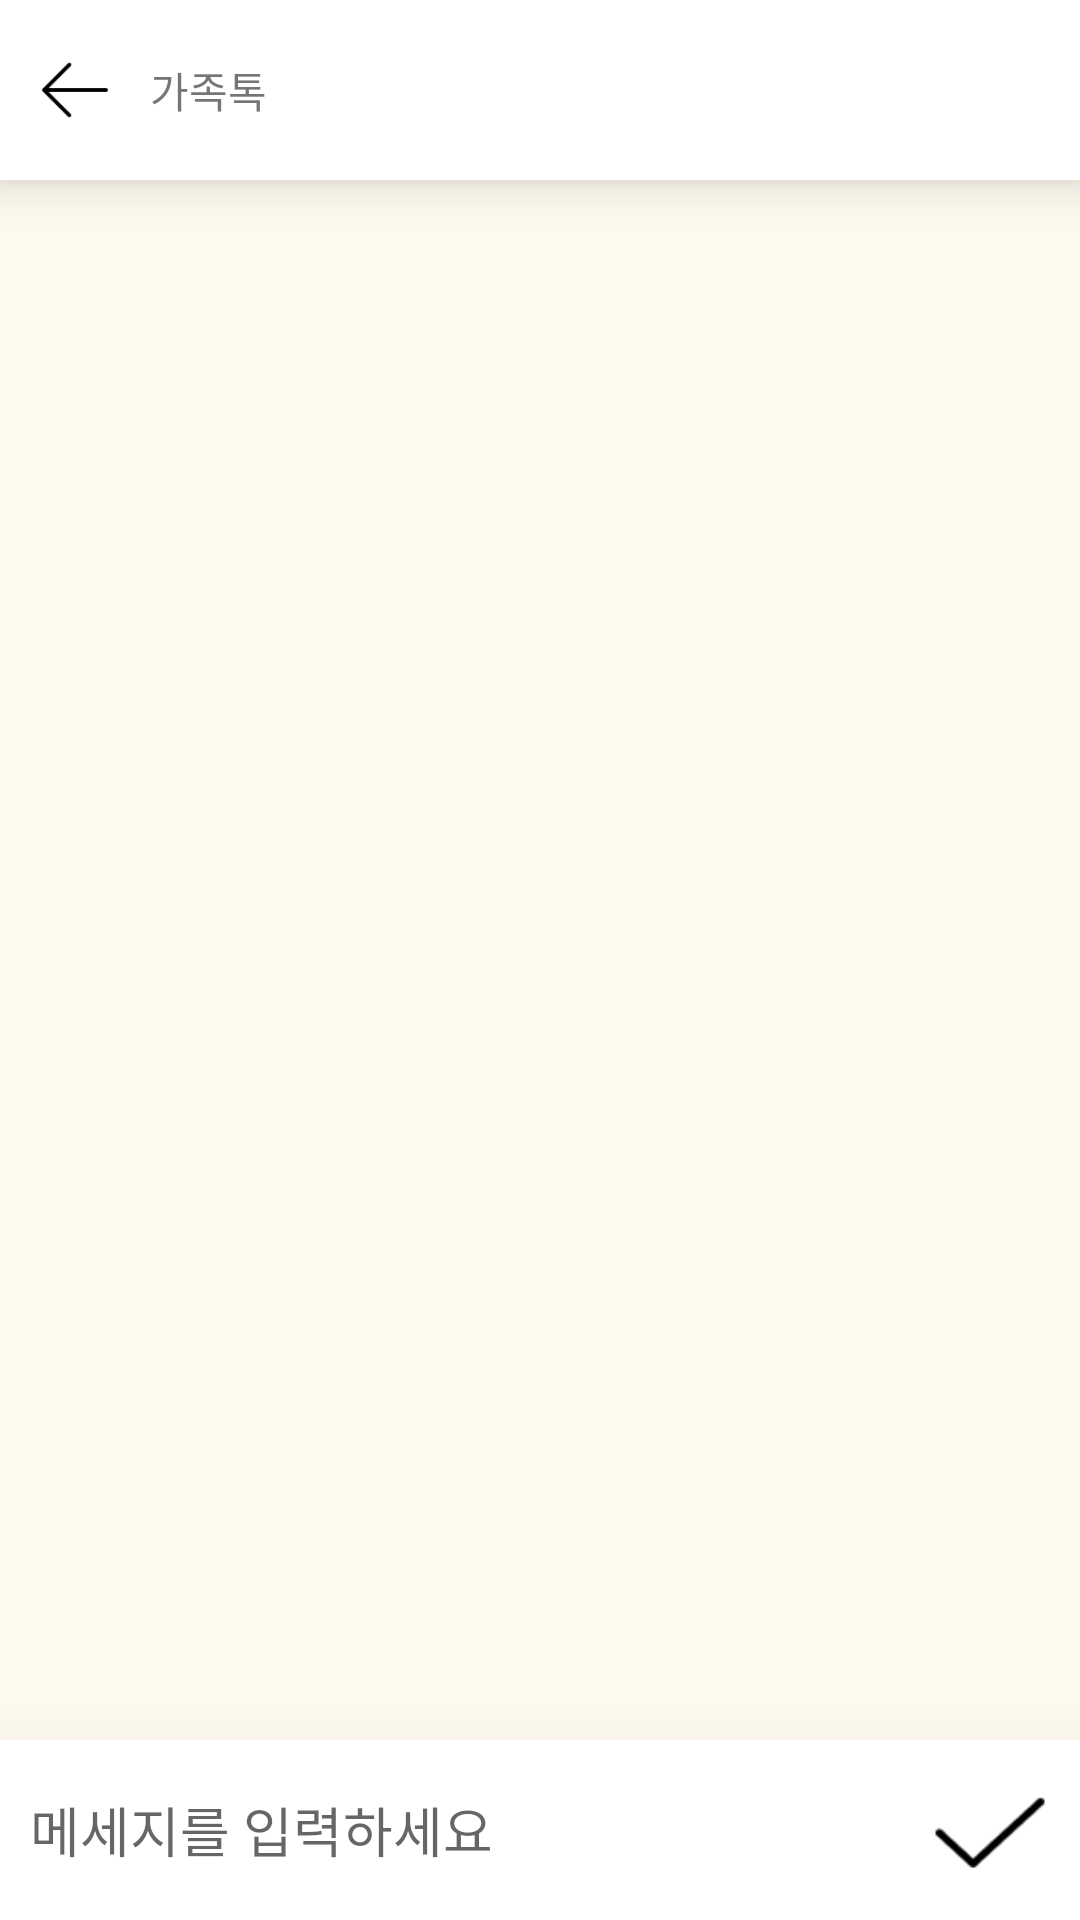

Icon bounding boxes for this 1080 x 1920 phone screenshot, format Rect(x1, y1, x2, y2):
back: Rect(42, 62, 108, 118)
check: Rect(935, 1797, 1045, 1868)
